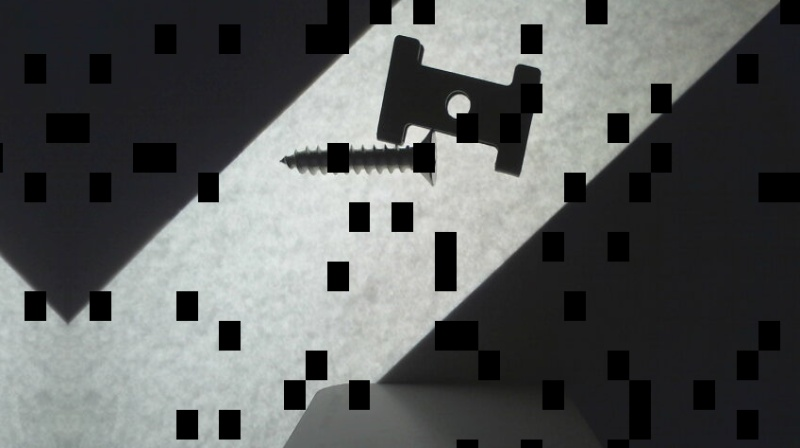O002: (376, 33, 541, 180)
S001: (277, 129, 438, 186)
